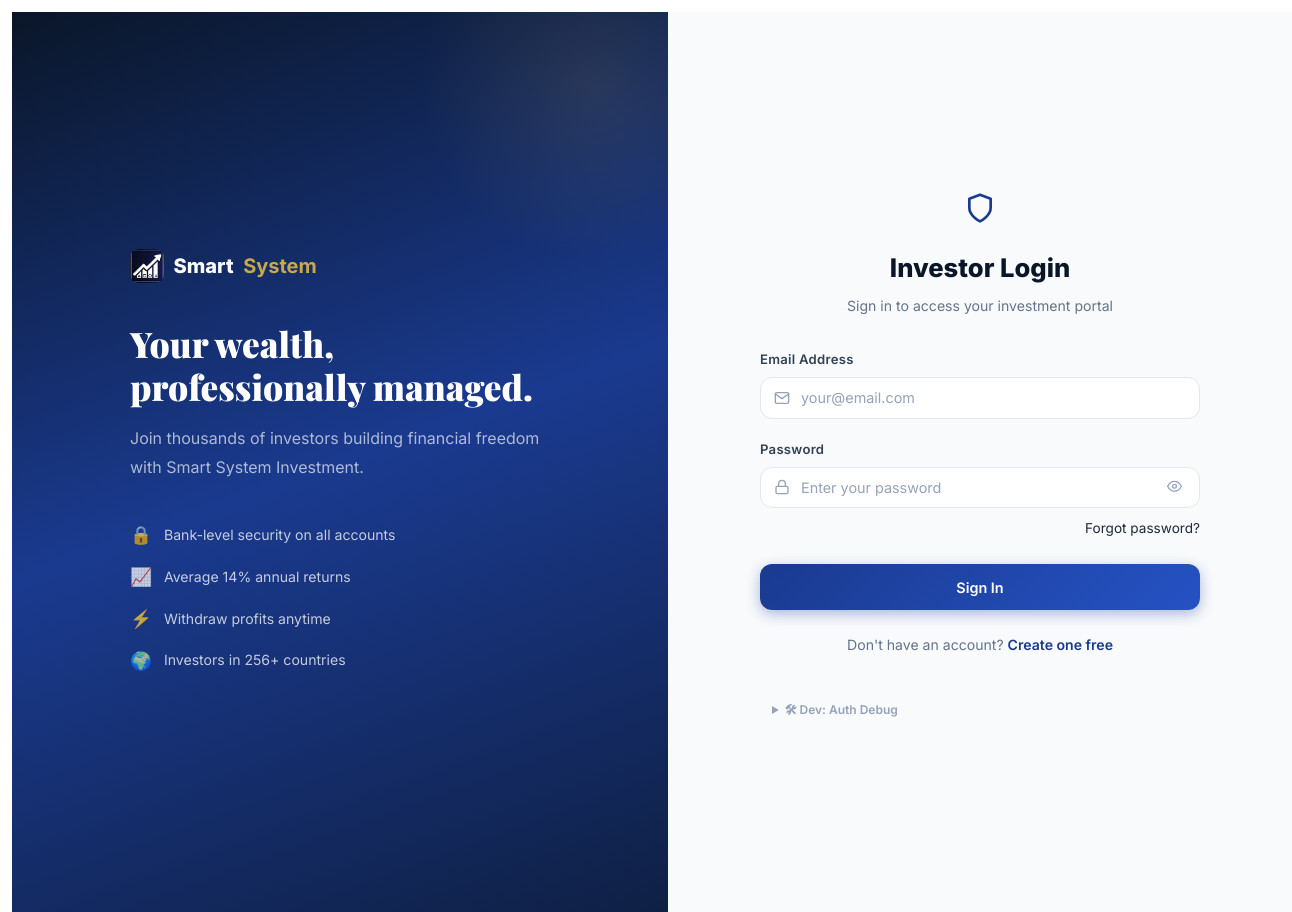
LoginPage — where each role goes after a successful login › registration_member → REGISTRATION DASHBOARD
In the field with placeholder "your@email.com": (980, 398) [760,377,1200,419], type "someone@ssi-dev.test"
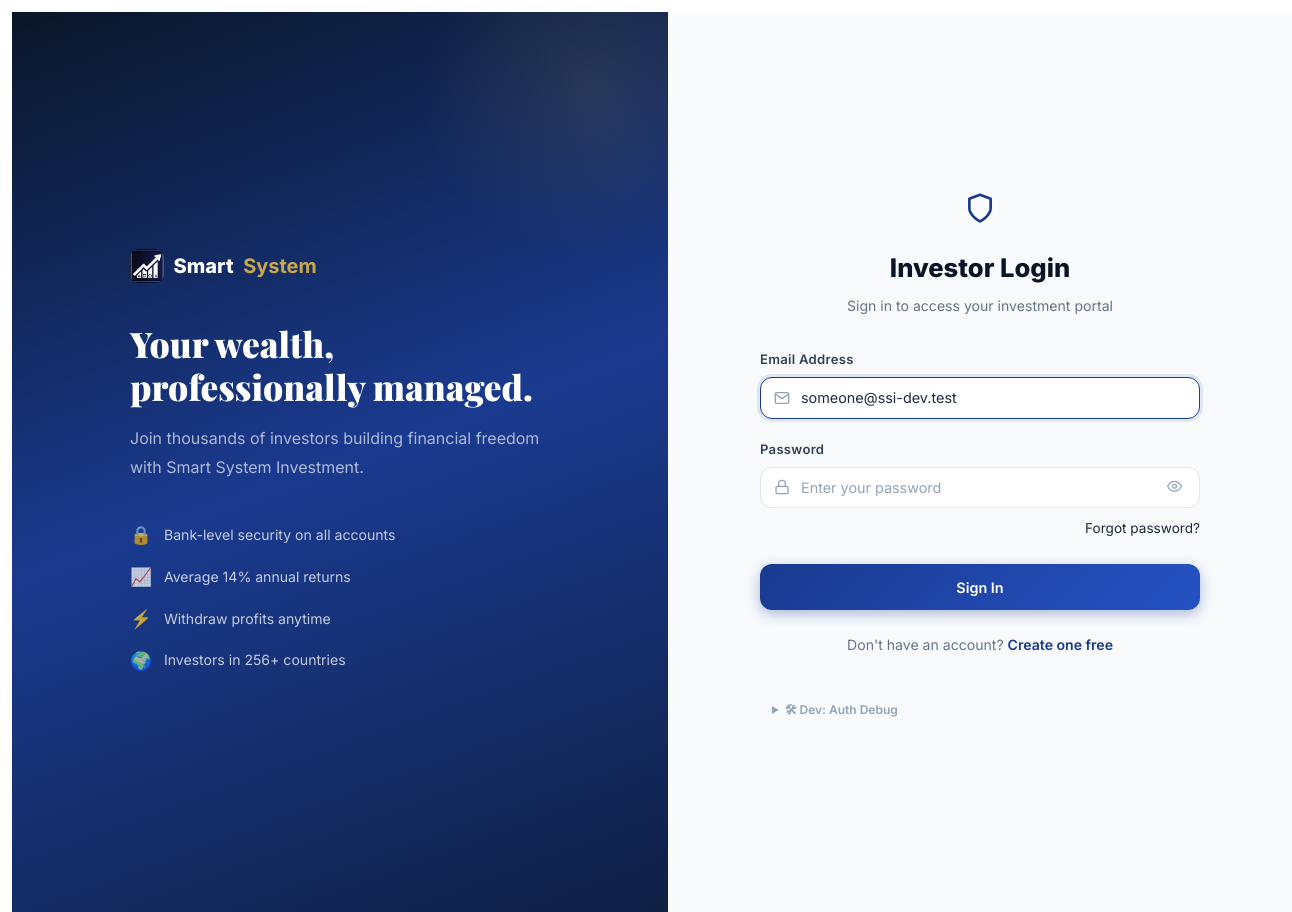
In the password field with placeholder "Enter your password": (980, 488) [760,467,1200,508], type "not-a-real-password"
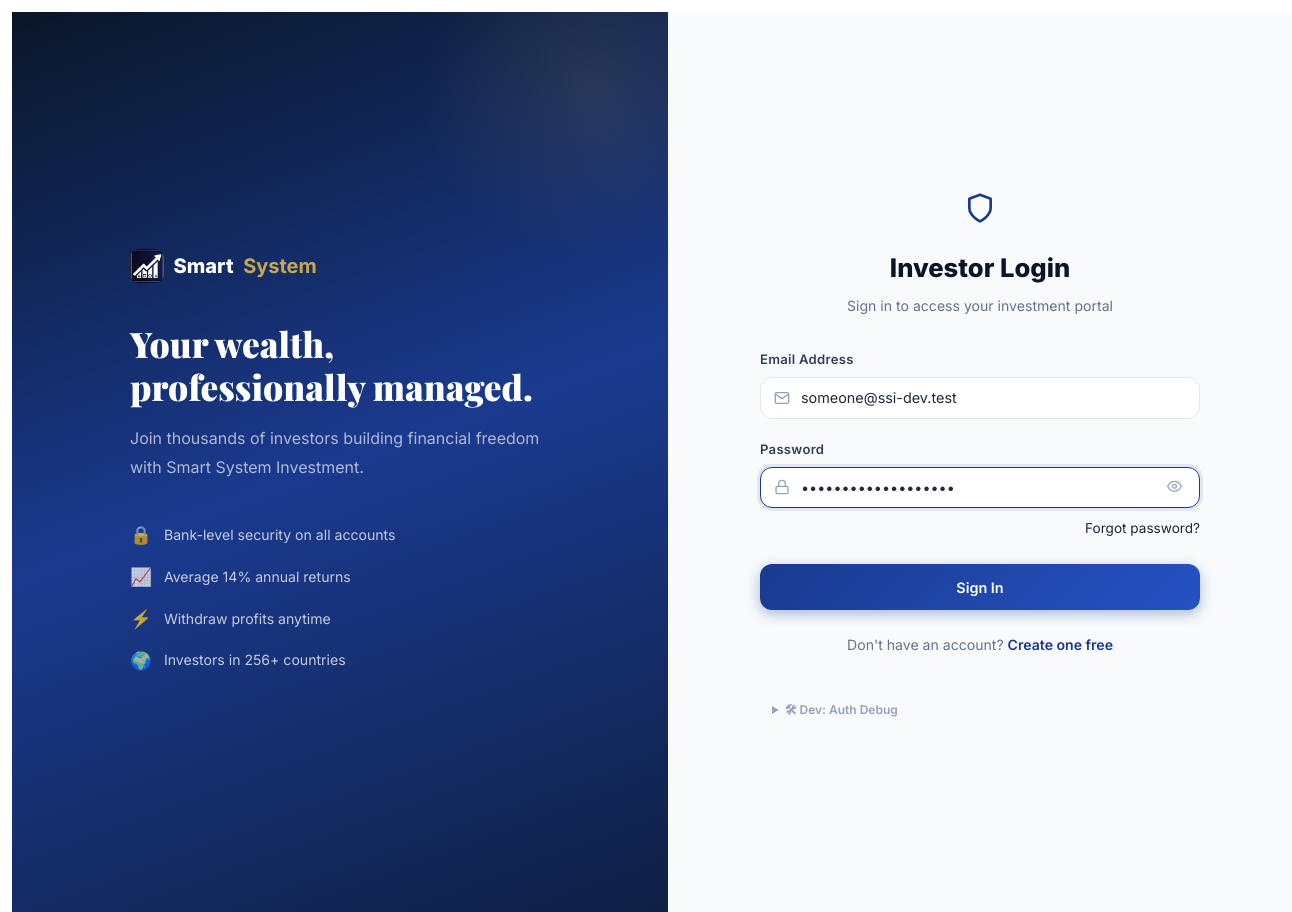
Click the button "Sign In": (980, 587) [760,564,1200,610]
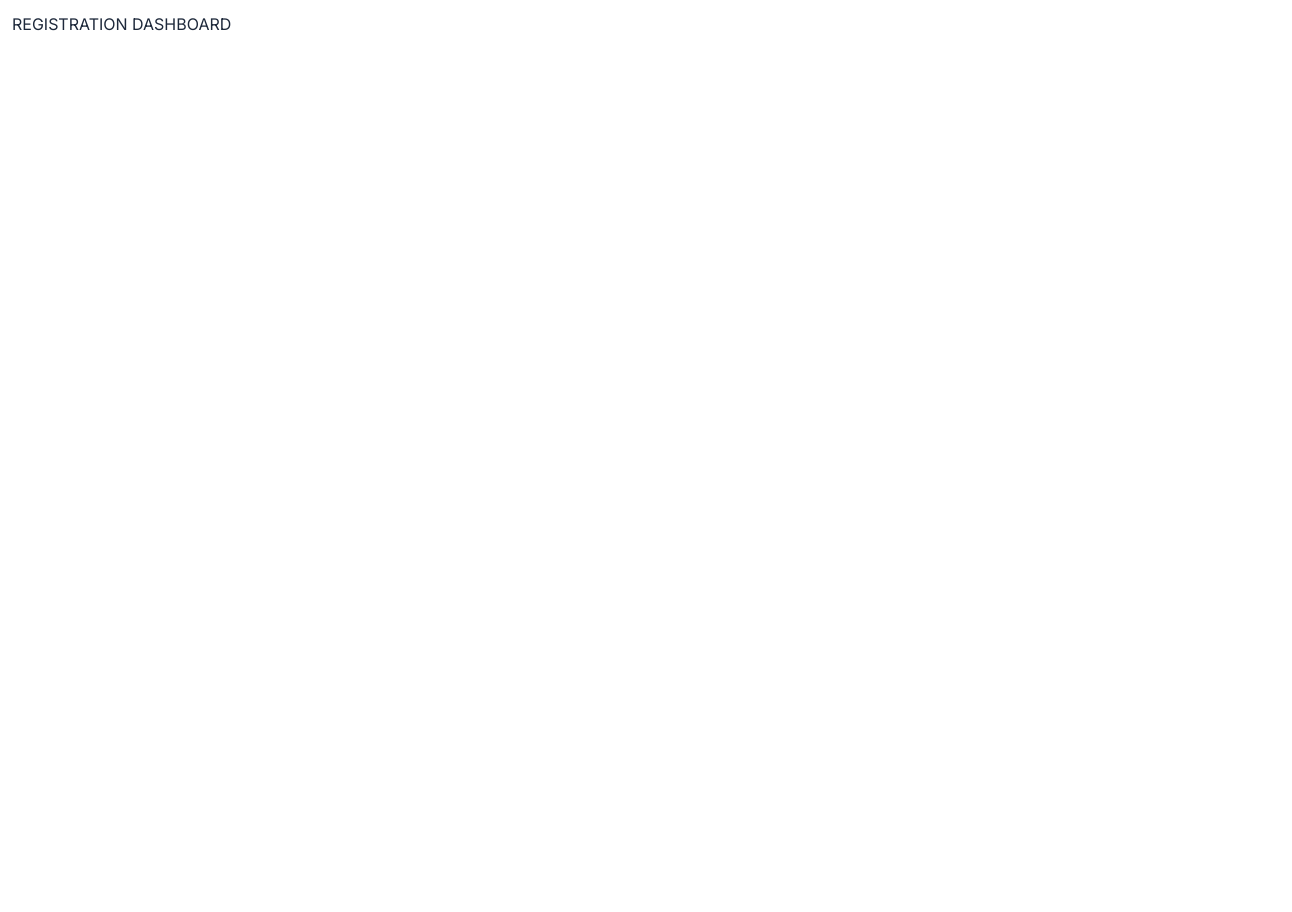
Expected: the text "REGISTRATION DASHBOARD" is shown, [12,14,231,34]
